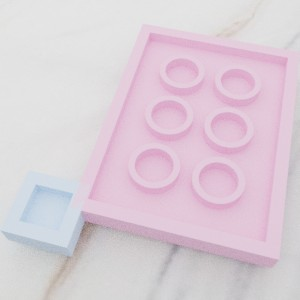lego: (70, 23, 299, 268), (0, 169, 93, 256)
